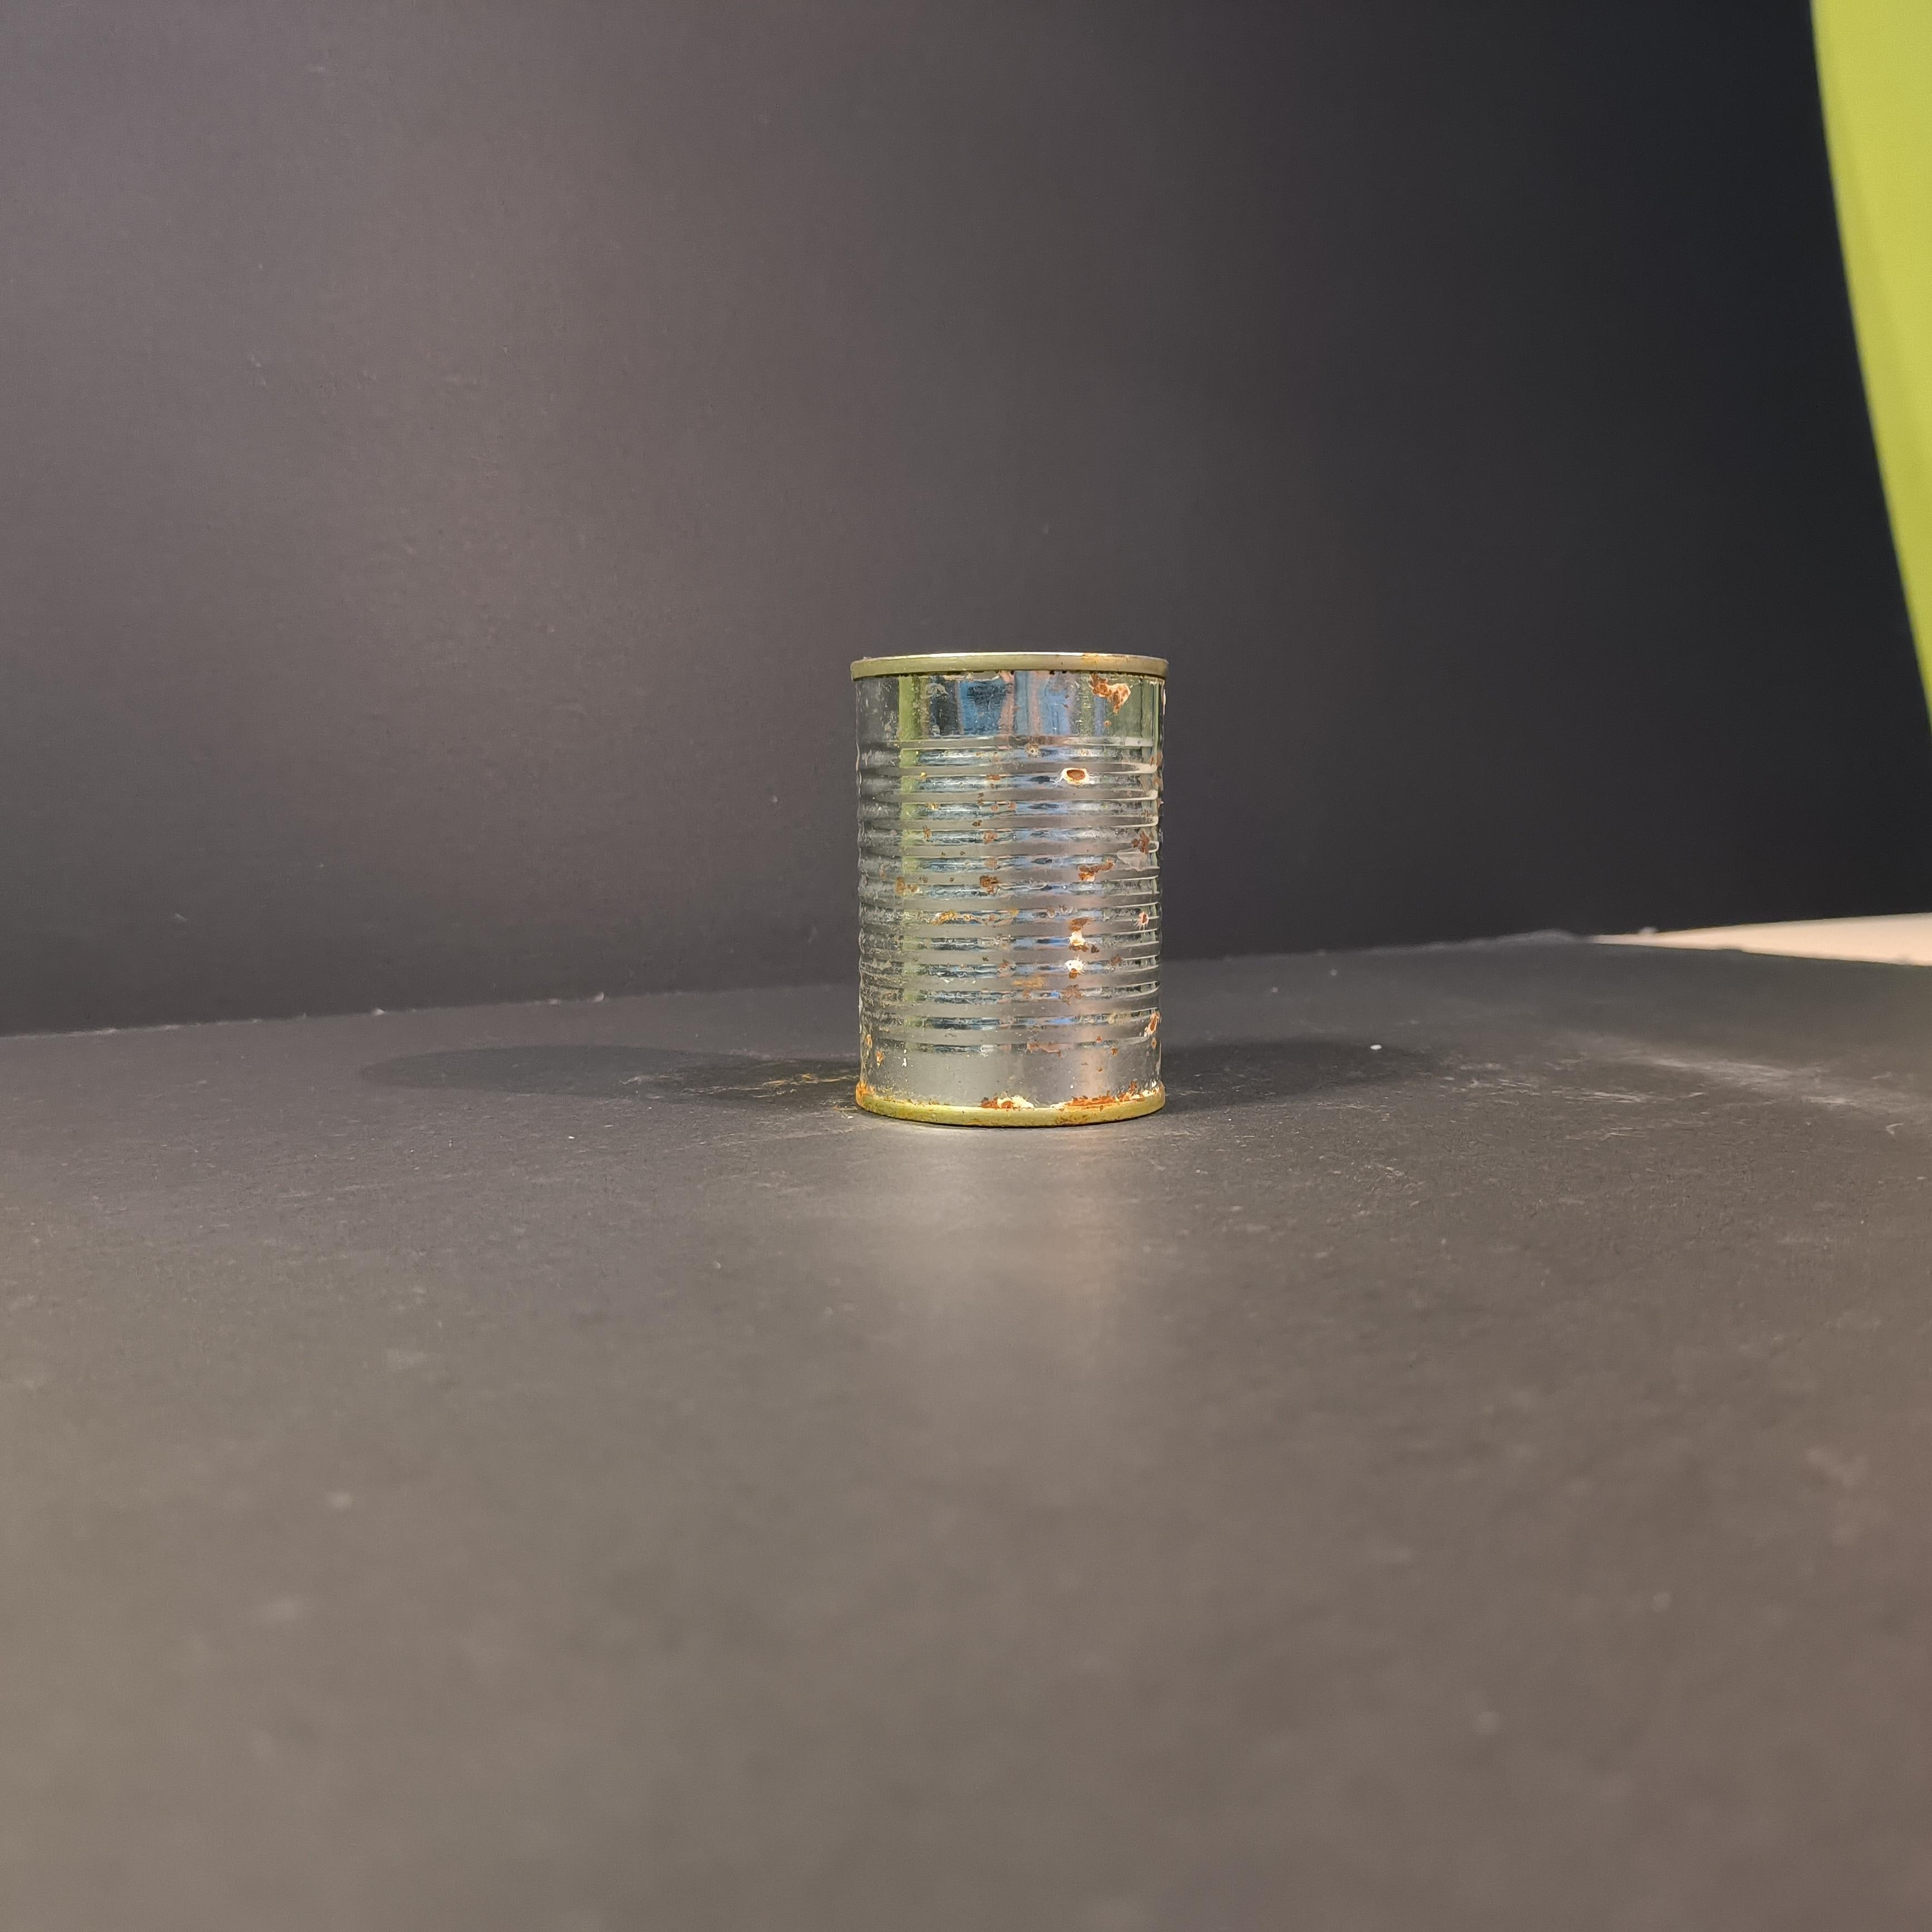Rusted: (832, 626, 1185, 1157)
